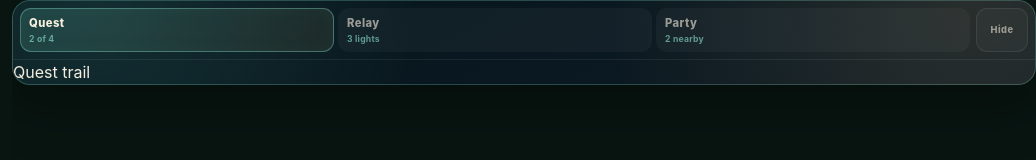
it: WorldActivityDock › switches the single visible panel with native pressed buttons
Click the button "Party 2 nearby" at (681, 23), box [656,8,970,52]
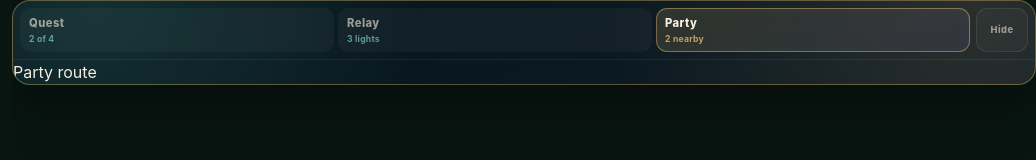
Now the element "Party route" is shown, box [13,59,1035,84]
Now the text "Quest trail" is gone
